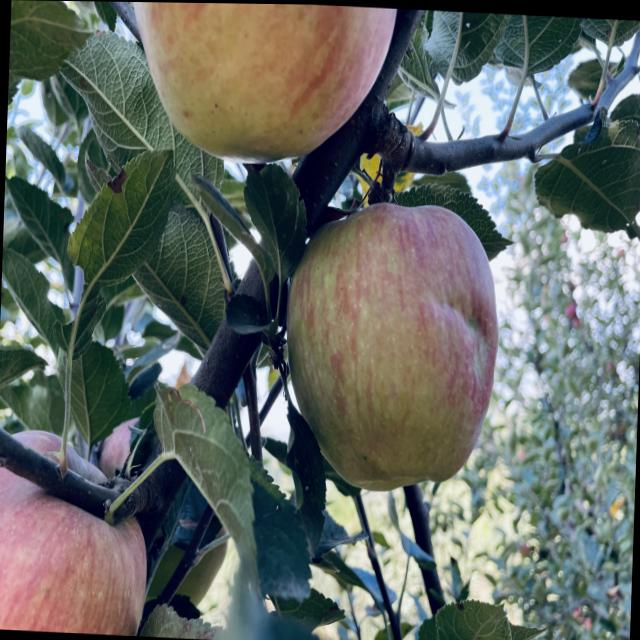Apple: (287, 202, 498, 489), (133, 2, 396, 161), (0, 466, 146, 635), (66, 444, 106, 482), (14, 430, 61, 454)
